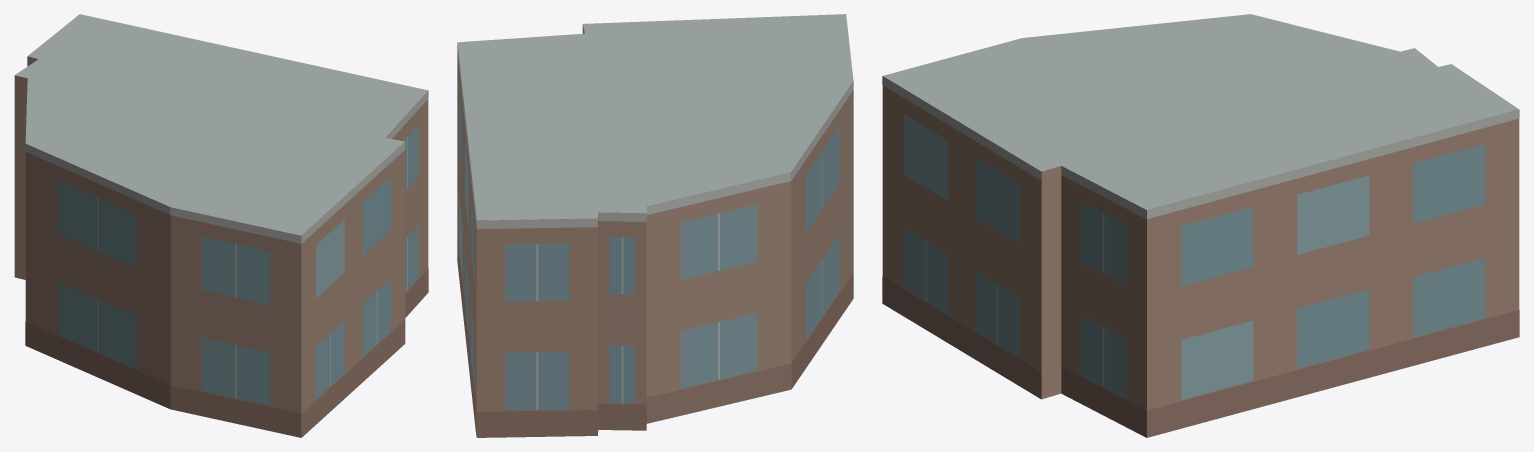
File: survey-upis-32643456.glb
The picture shows the model from 3 angles, left to right: view 1: azimuth 30°, elevation 25°; view 2: azimuth 150°, elevation 25°; view 3: azimuth 270°, elevation 25°; orthographic projection. The views are drawn at different scales.
Parts seen in each view (by area): view 1: survey-upis-32643456.tmp; view 2: survey-upis-32643456.tmp; view 3: survey-upis-32643456.tmp.
Boxes of the visible parts, left/top/right/bottom form: survey-upis-32643456.tmp: left=14, top=14, right=428, bottom=437; survey-upis-32643456.tmp: left=457, top=14, right=853, bottom=437; survey-upis-32643456.tmp: left=882, top=14, right=1519, bottom=437.
Bounding box in the file's own units: 11.28 × 6.1 × 15.47.
